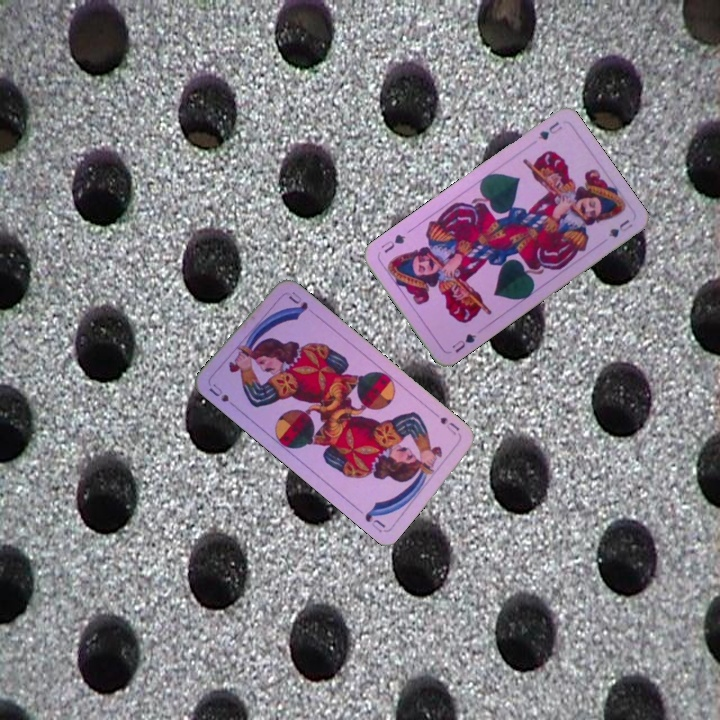GU: (448, 328, 479, 356), (534, 117, 565, 143)
SU: (205, 379, 240, 412), (436, 413, 463, 439)
